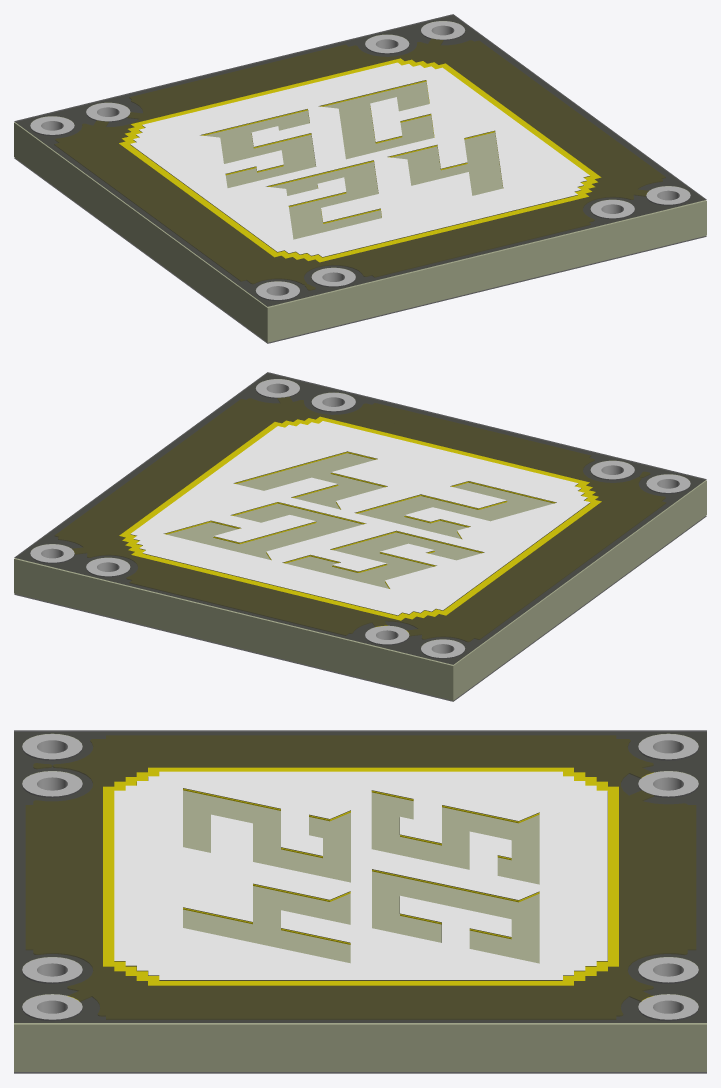
The model's file is attendee-minibadge-2024.glb.
3 renders of one model, top to bottom at view 1: azimuth 30°, elevation 25°; view 2: azimuth 150°, elevation 25°; view 3: azimuth 270°, elevation 25°, orthographic. The views are drawn at different scales.
Visible parts, largest first — view 1: =>[0:1:1:6], =>[0:1:1:8], =>[0:1:1:2], =>[0:1:1:4]; view 2: =>[0:1:1:6], =>[0:1:1:2], =>[0:1:1:8], =>[0:1:1:4]; view 3: =>[0:1:1:6], =>[0:1:1:2], =>[0:1:1:8], =>[0:1:1:4].
Part boxes in pixels (x1=…): =>[0:1:1:6]: x1=14, y1=14, x2=706, y2=343; =>[0:1:1:8]: x1=14, y1=16, x2=706, y2=342; =>[0:1:1:2]: x1=30, y1=21, x2=690, y2=300; =>[0:1:1:4]: x1=130, y1=62, x2=589, y2=256; =>[0:1:1:6]: x1=14, y1=372, x2=706, y2=701; =>[0:1:1:2]: x1=30, y1=379, x2=690, y2=658; =>[0:1:1:8]: x1=14, y1=374, x2=706, y2=700; =>[0:1:1:4]: x1=131, y1=421, x2=590, y2=615; =>[0:1:1:6]: x1=14, y1=730, x2=706, y2=1073; =>[0:1:1:2]: x1=22, y1=734, x2=698, y2=1020; =>[0:1:1:8]: x1=14, y1=732, x2=706, y2=1071; =>[0:1:1:4]: x1=114, y1=771, x2=607, y2=979.
Size of the model in its own units: 0.02 by 0.00166 by 0.02.
4 materials, 4 textured.
